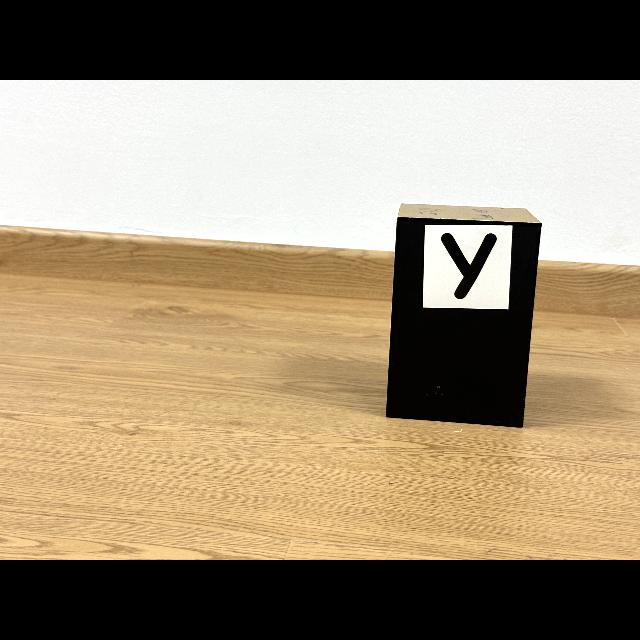Y: (441, 232, 496, 299)
